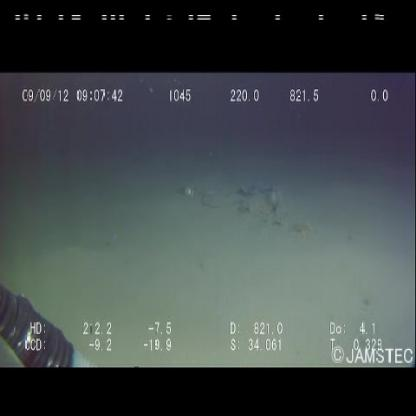Rov: (1, 256, 114, 392)
Rác: (174, 180, 200, 205)
